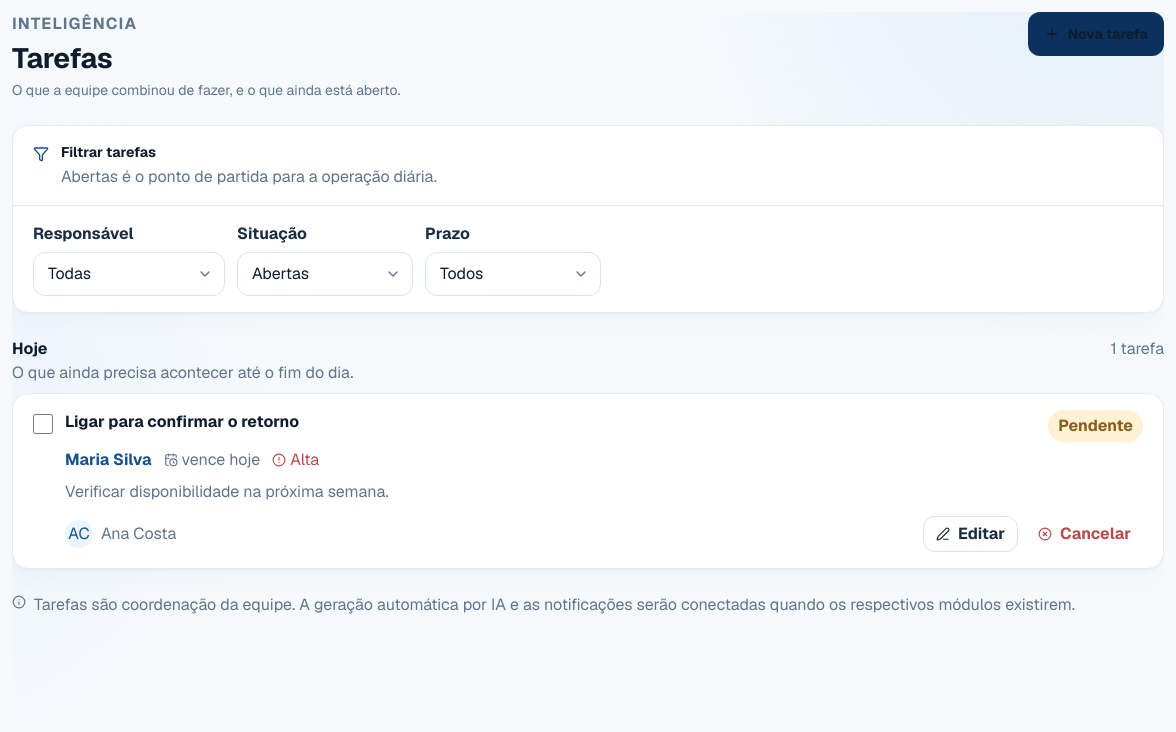
Test case: TasksScreen › prioriza tarefas abertas e deixa concluídas no filtro próprio
Check: the heading "Hoje" is shown, box [12,338,48,359]
Check: the text "Ligar para confirmar o retorno" is shown, box [65,411,299,432]
Select "Concluídas" in the dropdown labelled "Situação" at coordinates (325, 274), box [237,252,413,296]
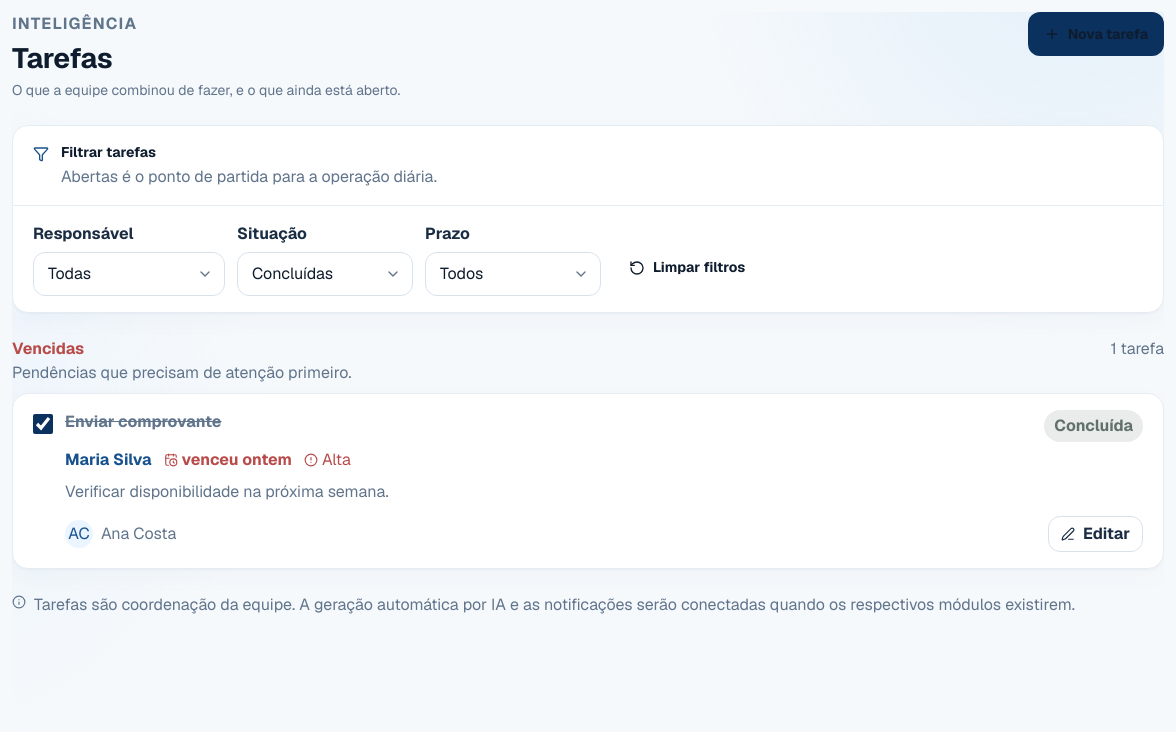
Check: the text "Enviar comprovante" is shown, box [65,411,222,432]
Check: the text "Ligar para confirmar o retorno" is gone
